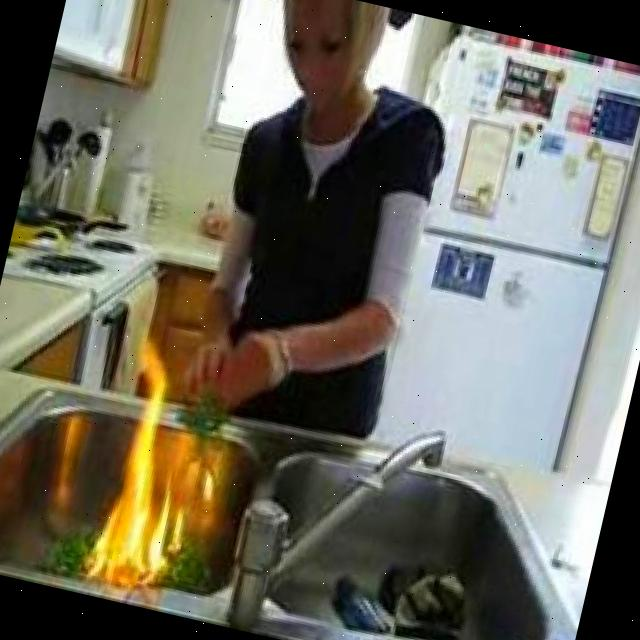fire: (81, 368, 210, 594)
